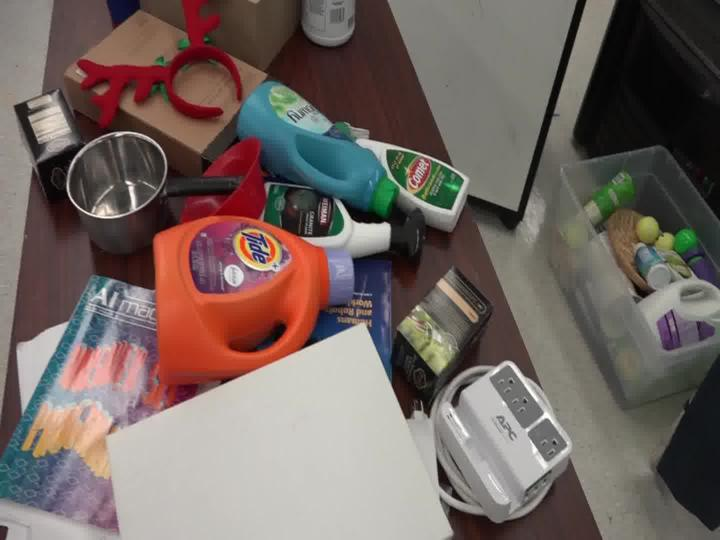downy: (208, 52, 405, 236)
